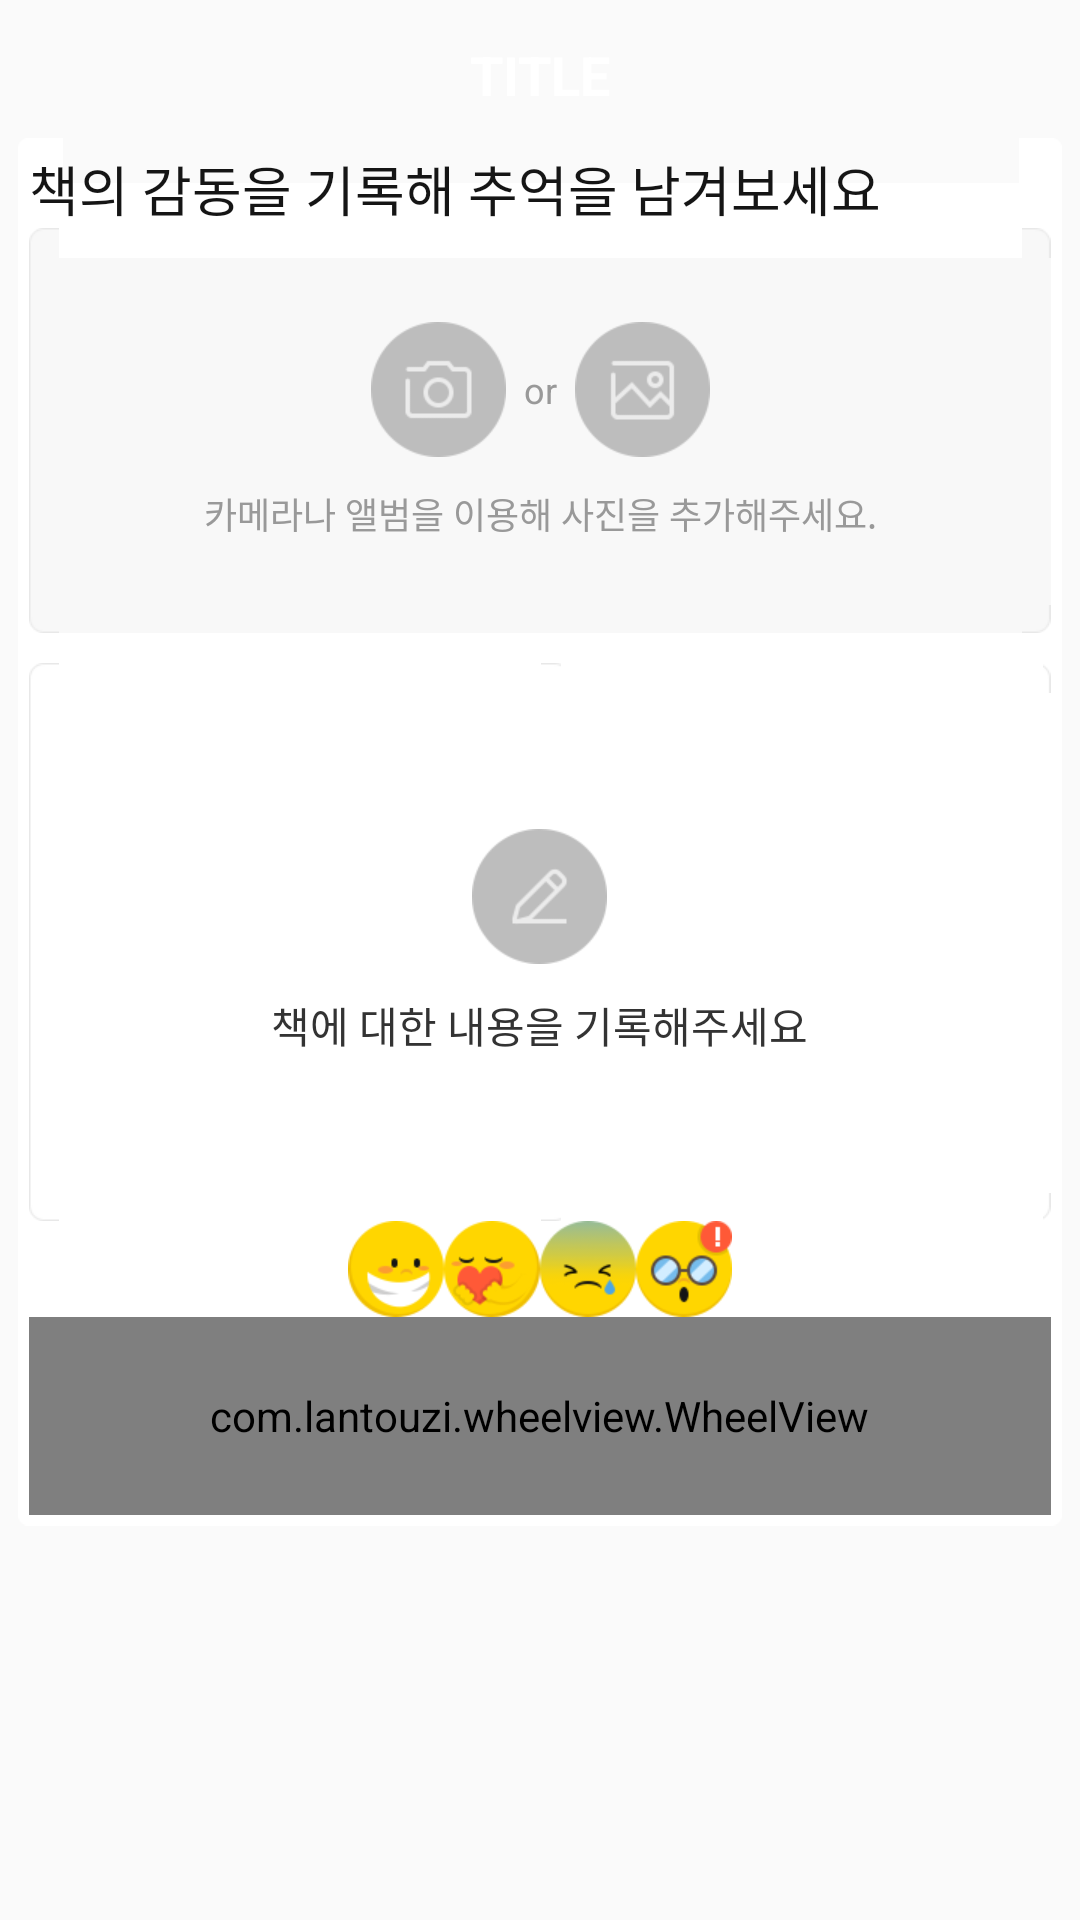

Named icons in this screenshot (1080 x 1920) and their centers, (x,y):
camera pre: (438,389)
picture pre: (642,389)
remind happy: (396,1269)
remind knowledge: (684,1269)
remind love: (492,1269)
remind sad: (588,1269)
write pre: (539,896)
